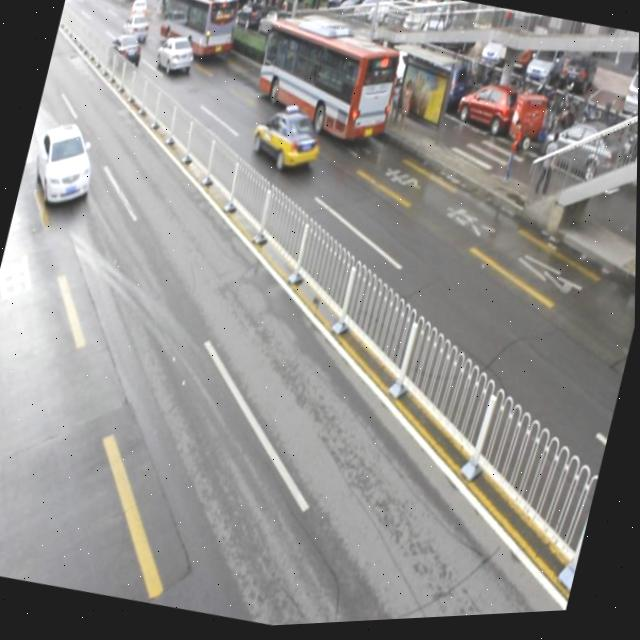car: (26, 116, 103, 212), (247, 104, 327, 181), (153, 33, 197, 79)
van: (246, 12, 406, 153), (151, 0, 242, 65)
